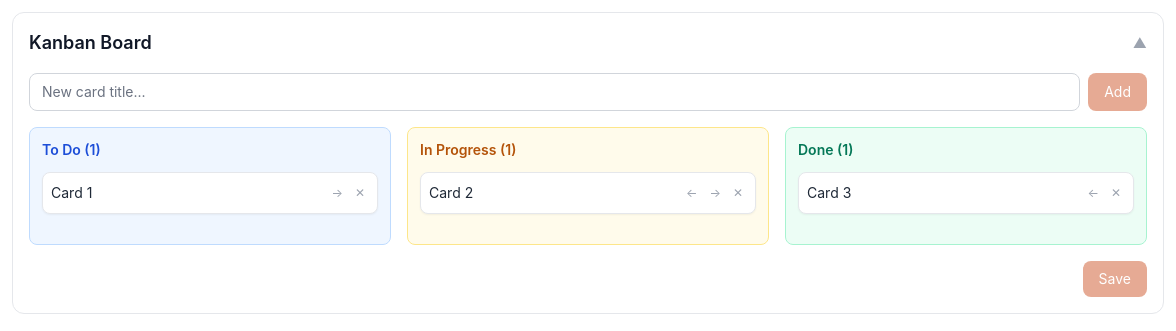
Test: KanbanBoard › deletes card
Click the button titled "Delete" in the row of "Card 1" at [360, 193], box left=351, top=181, right=369, bottom=205
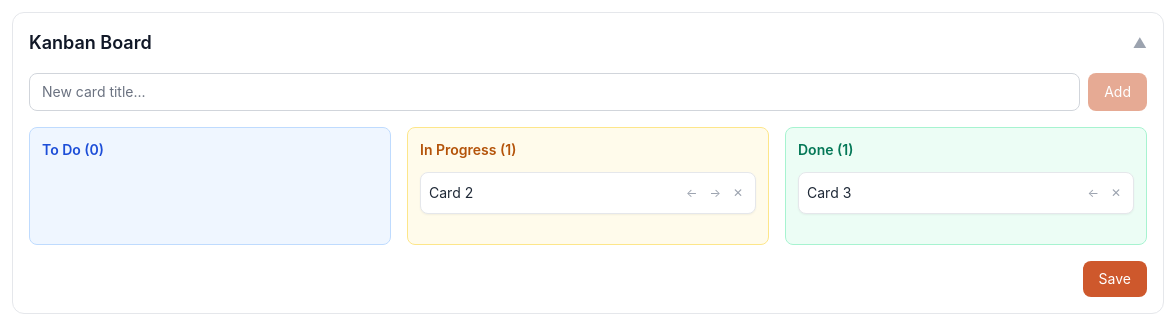
Result: the text "Card 1" is gone
